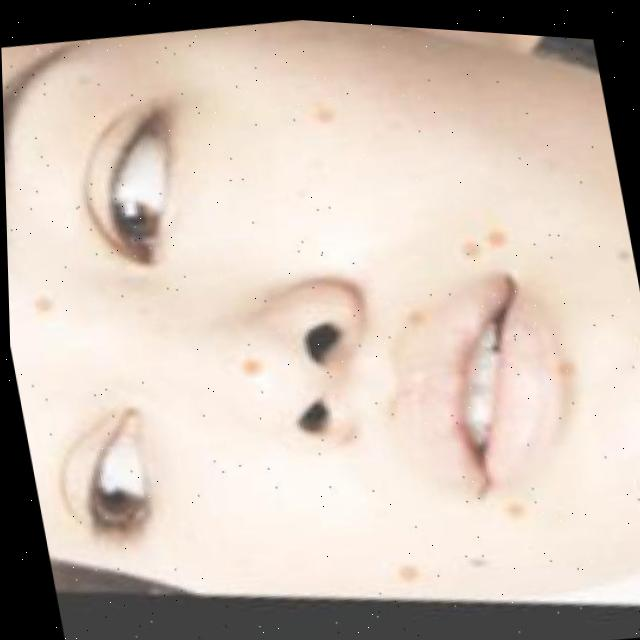Acne: (388, 556, 433, 597), (450, 229, 495, 258), (307, 98, 333, 139), (227, 340, 255, 376), (30, 291, 52, 319), (518, 505, 527, 522)
